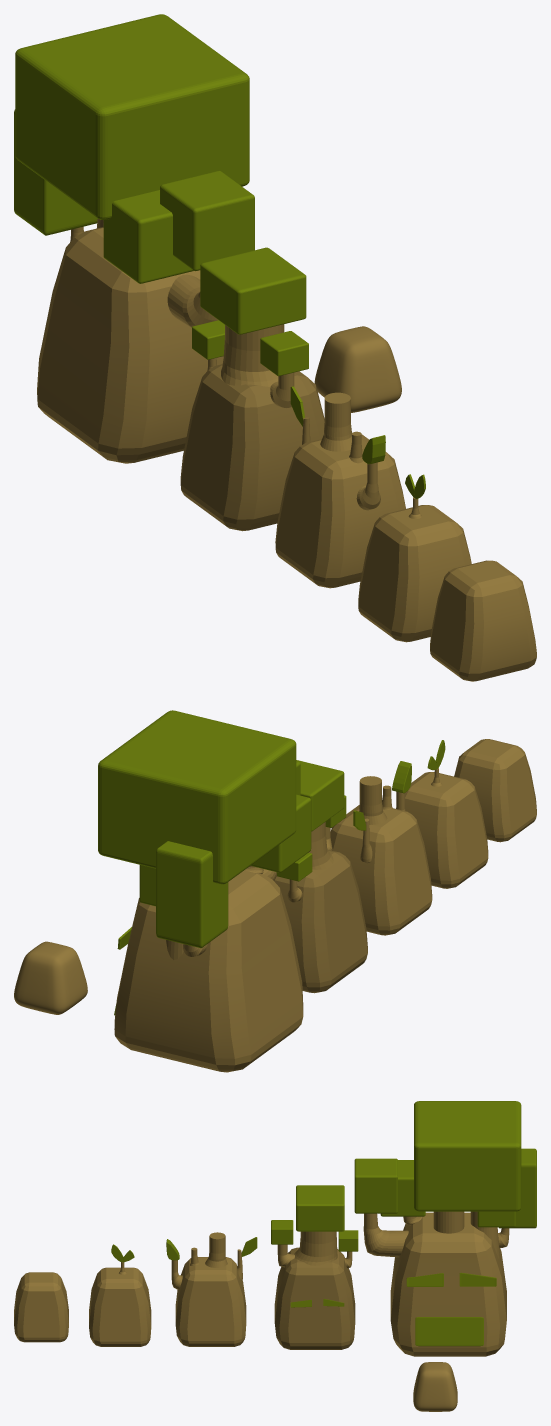
The model's file is woodJelly.fbx.
3 renders of one model, top to bottom at view 1: azimuth 30°, elevation 25°; view 2: azimuth 150°, elevation 25°; view 3: azimuth 270°, elevation 25°, orthographic. The views are drawn at different scales.
Visible parts, largest first — view 1: Cube.003, jellie_low.004, jellie_low.003, jellie_low.002, jellie_low.001, jellie_low, Cube, Cube.004, Cube.005, jellie_high, Cube.006, Cylinder.003 (+4 smaller); view 2: Cube.003, jellie_low.004, jellie_low.002, jellie_low.003, jellie_low.001, Cube.006, jellie_low, jellie_high, Cube, Cube.005, Cylinder, Cylinder.003 (+3 smaller); view 3: Cube.003, jellie_low.004, jellie_low.003, jellie_low.002, jellie_low.001, jellie_low, Cube.004, Cube, Cube.008, jellie_high, Cube.006, Cylinder.008 (+10 smaller).
Part boxes in pixels (x1=…): Cube.003: x1=15, y1=14, x2=249, y2=219; jellie_low.004: x1=37, y1=227, x2=223, y2=463; jellie_low.003: x1=180, y1=364, x2=324, y2=531; jellie_low.002: x1=275, y1=434, x2=405, y2=588; jellie_low.001: x1=358, y1=505, x2=471, y2=642; jellie_low: x1=430, y1=560, x2=536, y2=681; Cube: x1=200, y1=247, x2=306, y2=334; Cube.004: x1=160, y1=171, x2=254, y2=271; Cube.005: x1=103, y1=190, x2=193, y2=283; jellie_high: x1=314, y1=326, x2=401, y2=412; Cube.006: x1=14, y1=109, x2=97, y2=235; Cylinder.003: x1=221, y1=324, x2=284, y2=386; Cube.003: x1=98, y1=710, x2=296, y2=884; jellie_low.004: x1=114, y1=870, x2=303, y2=1072; jellie_low.002: x1=330, y1=805, x2=432, y2=935; jellie_low.003: x1=274, y1=849, x2=367, y2=993; jellie_low.001: x1=396, y1=772, x2=488, y2=888; Cube.006: x1=156, y1=841, x2=228, y2=948; jellie_low: x1=454, y1=739, x2=536, y2=842; jellie_high: x1=14, y1=941, x2=87, y2=1014; Cube: x1=296, y1=760, x2=344, y2=831; Cube.005: x1=250, y1=794, x2=311, y2=872; Cylinder: x1=359, y1=776, x2=387, y2=824; Cylinder.003: x1=309, y1=822, x2=333, y2=869; Cube.003: x1=414, y1=1101, x2=521, y2=1211; jellie_low.004: x1=390, y1=1212, x2=506, y2=1356; jellie_low.003: x1=274, y1=1247, x2=355, y2=1349; jellie_low.002: x1=175, y1=1257, x2=246, y2=1346; jellie_low.001: x1=89, y1=1267, x2=151, y2=1346; jellie_low: x1=14, y1=1272, x2=68, y2=1342; Cube.004: x1=354, y1=1158, x2=397, y2=1213; Cube: x1=296, y1=1185, x2=344, y2=1231; Cube.008: x1=415, y1=1317, x2=483, y2=1346; jellie_high: x1=413, y1=1362, x2=457, y2=1411; Cube.006: x1=498, y1=1148, x2=536, y2=1228; Cylinder.008: x1=363, y1=1213, x2=408, y2=1257.
Size of the model in its own units: 984 by 1116 by 2356.
